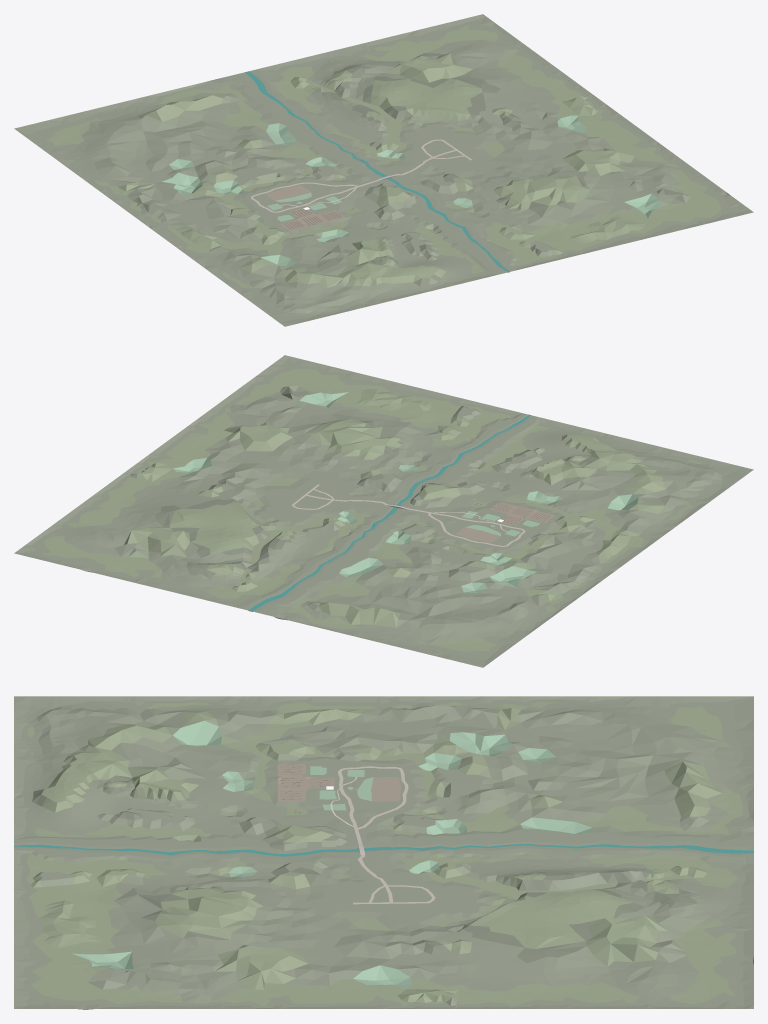
The model's file is ground.fbx.
The picture shows the model from 3 angles, top to bottom: view 1: azimuth 30°, elevation 25°; view 2: azimuth 150°, elevation 25°; view 3: azimuth 270°, elevation 25°; orthographic projection. The views are drawn at different scales.
Visible parts, largest first — view 1: ground6, river; view 2: ground6, river; view 3: ground6, river.
Boxes of the visible parts, x1=… form: ground6: x1=14, y1=14, x2=753, y2=326; river: x1=245, y1=71, x2=509, y2=272; ground6: x1=14, y1=355, x2=753, y2=667; river: x1=249, y1=415, x2=529, y2=611; ground6: x1=14, y1=696, x2=753, y2=1009; river: x1=14, y1=843, x2=753, y2=856.
Bounding box in the file's own units: 4000 × 126 × 4000.
